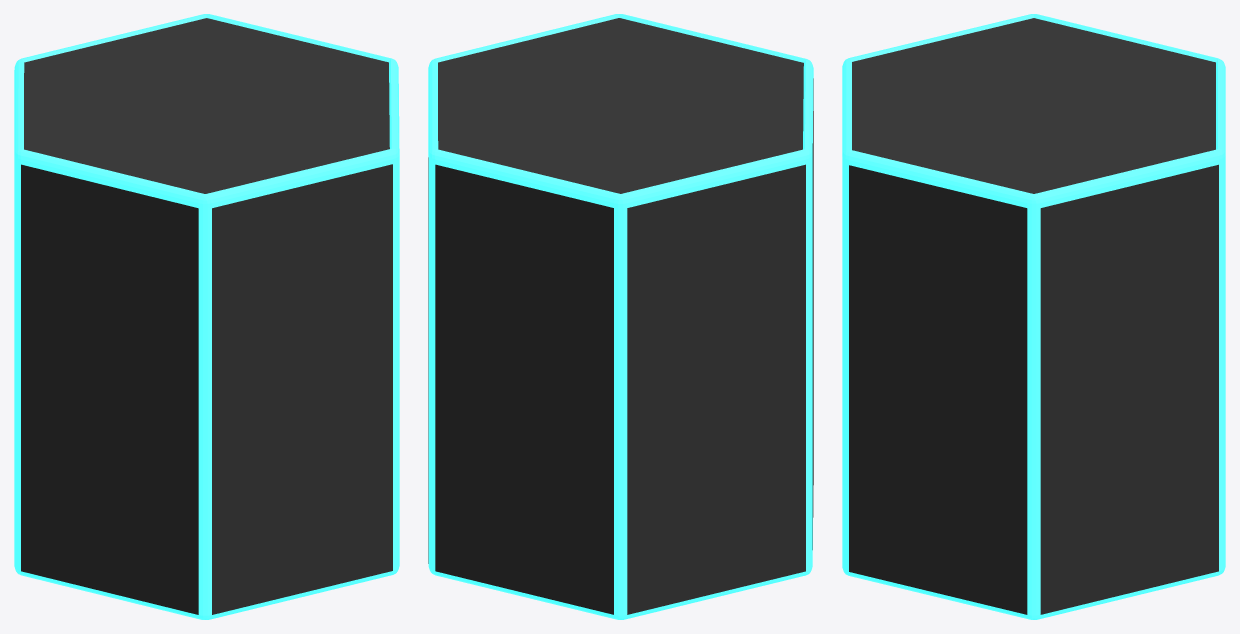
File: HexagonalPlatform.fbx
3 renders of one model, left to right at view 1: azimuth 30°, elevation 25°; view 2: azimuth 150°, elevation 25°; view 3: azimuth 270°, elevation 25°, orthographic.
Parts seen in each view (by area): view 1: Cube; view 2: Cube; view 3: Cube.
Part boxes in pixels (bbox=[...]): Cube: bbox=[14, 14, 399, 619]; Cube: bbox=[428, 14, 813, 619]; Cube: bbox=[842, 14, 1225, 619].
Size of the model in its own units: 616 by 659 by 538.
